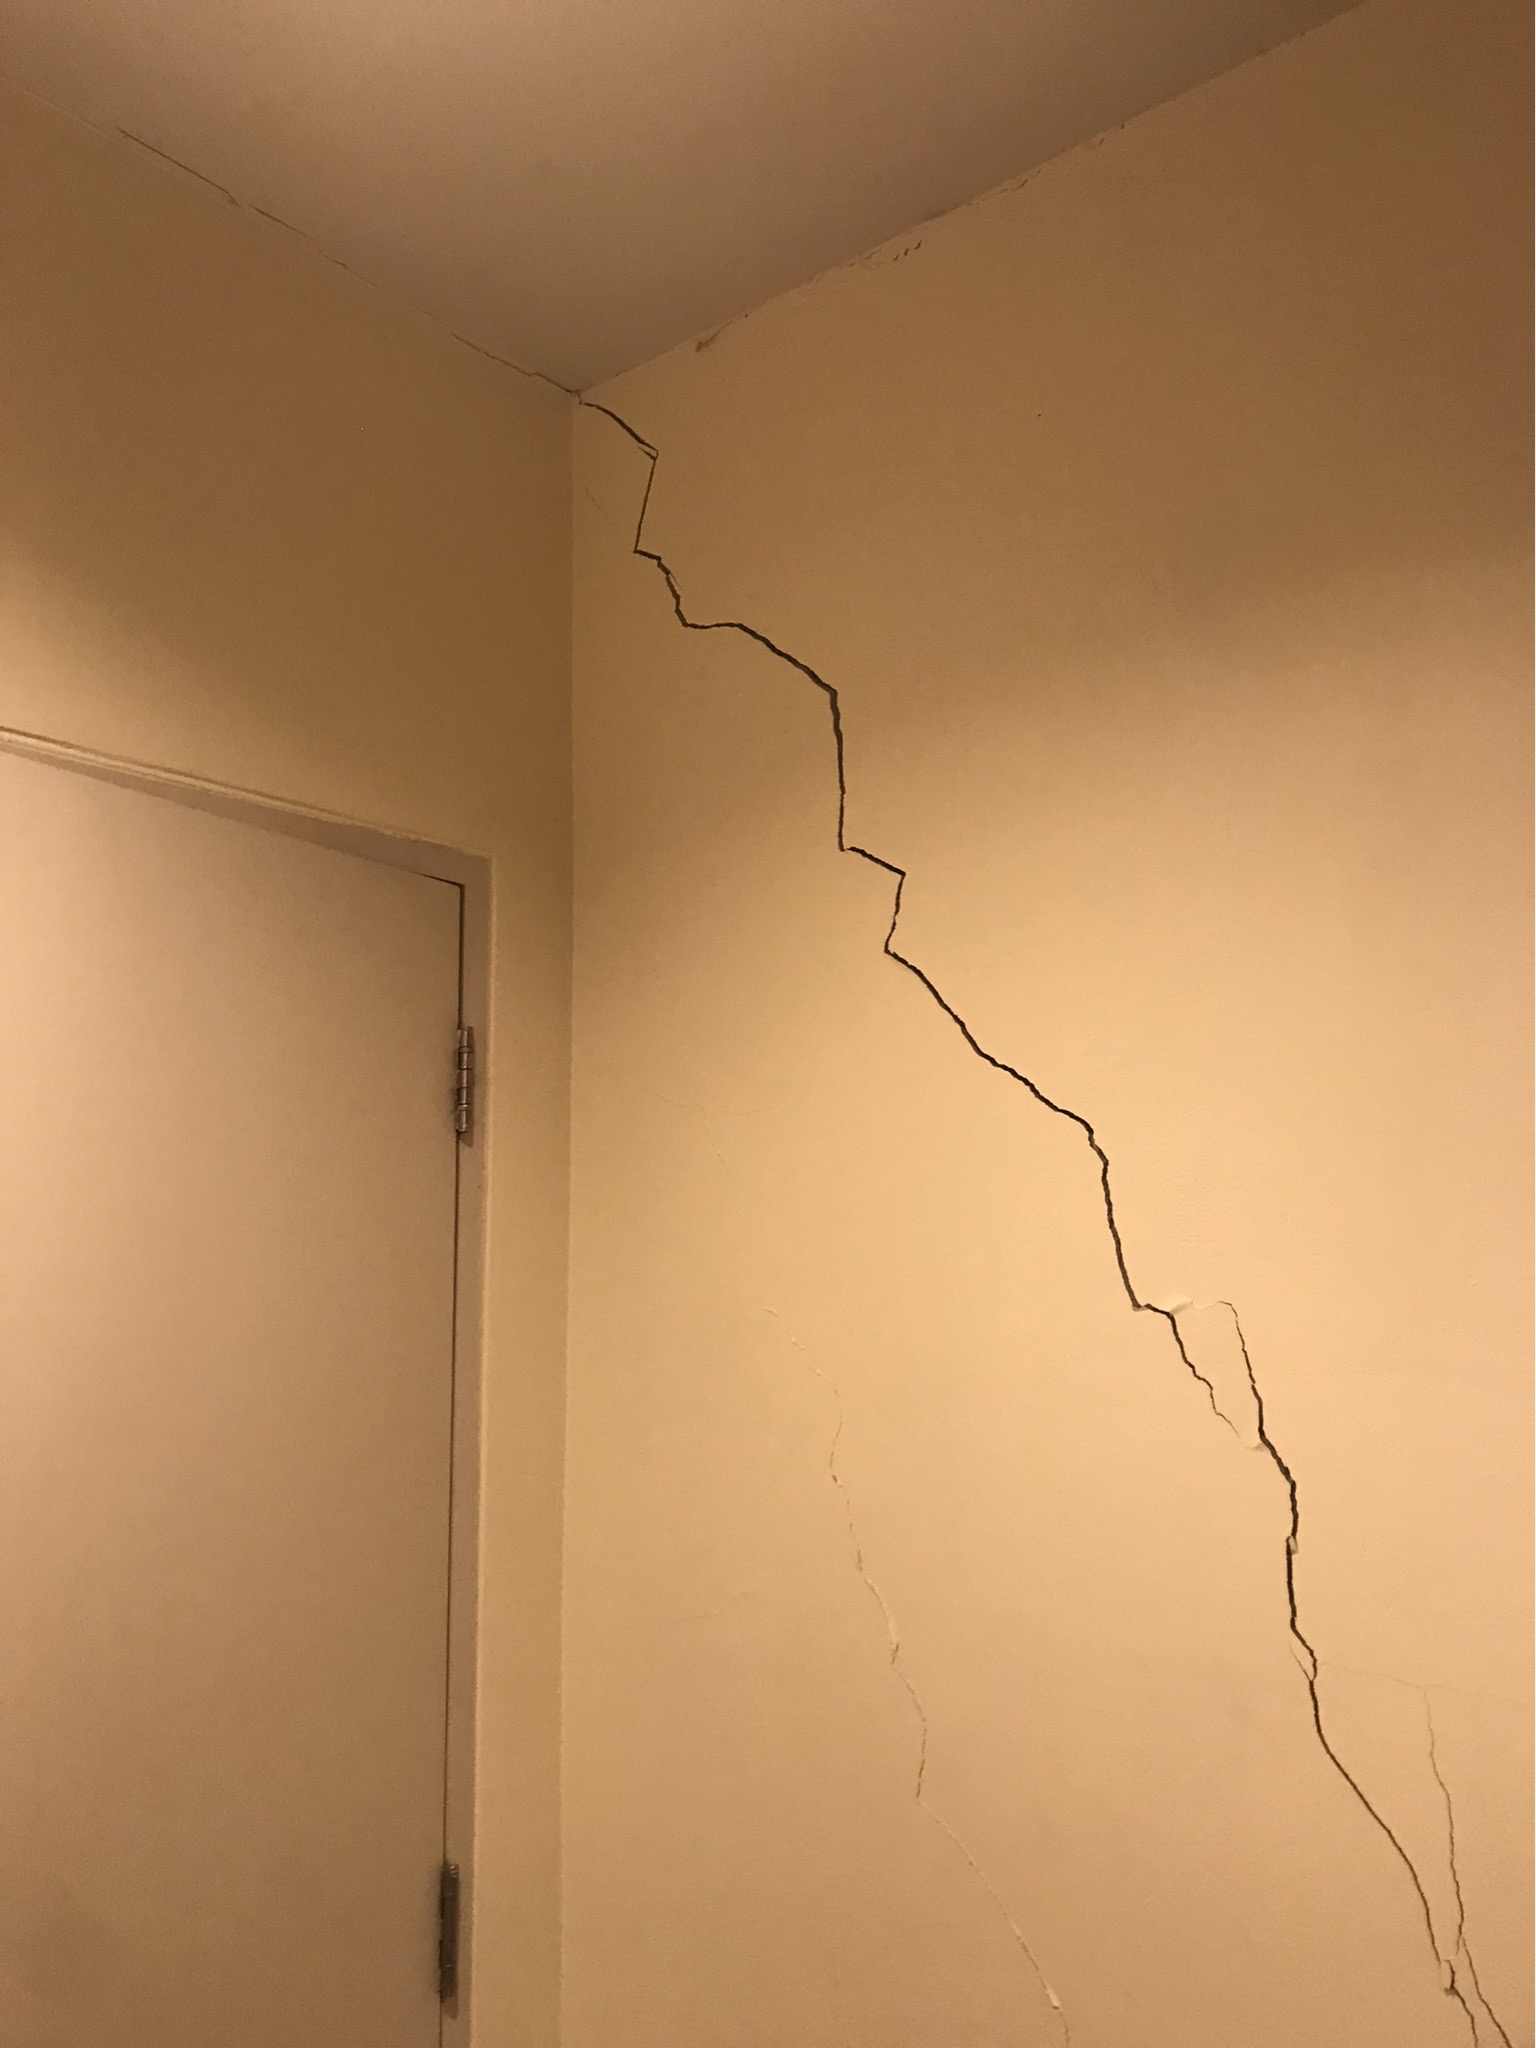Medium: (631, 527, 1397, 1569)
